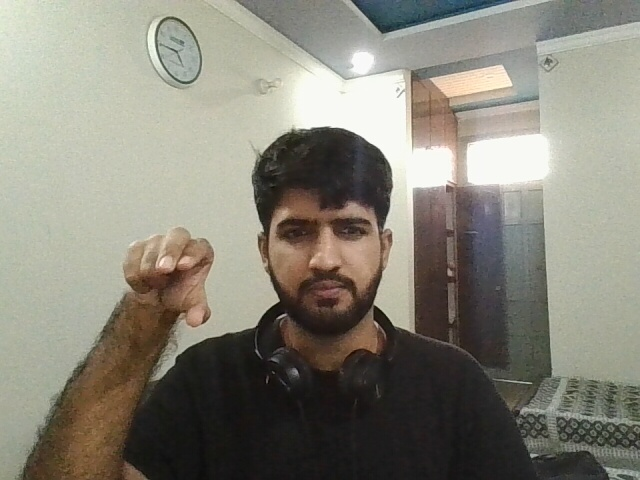No: (94, 214, 244, 336)
